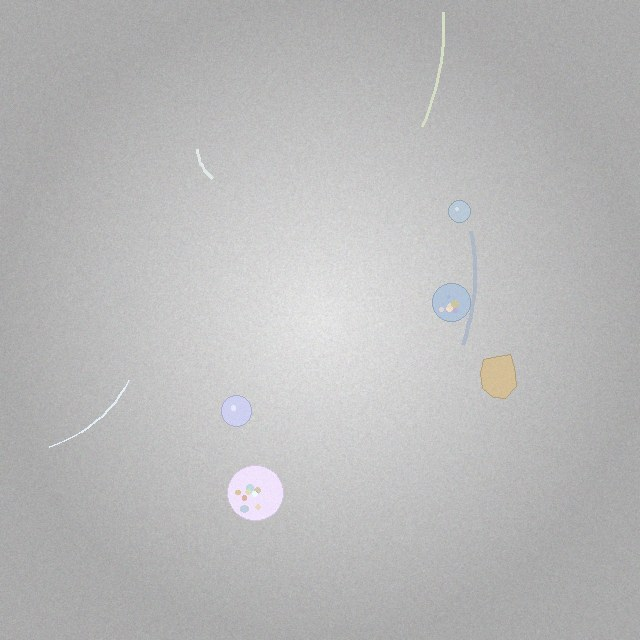fiber: (46, 377, 132, 451), (419, 10, 447, 130), (457, 226, 480, 350), (194, 146, 216, 182)
foam: (228, 465, 283, 521), (433, 284, 470, 321)
fragment: (480, 355, 517, 399)
pellet: (221, 396, 252, 427), (449, 200, 470, 222)
